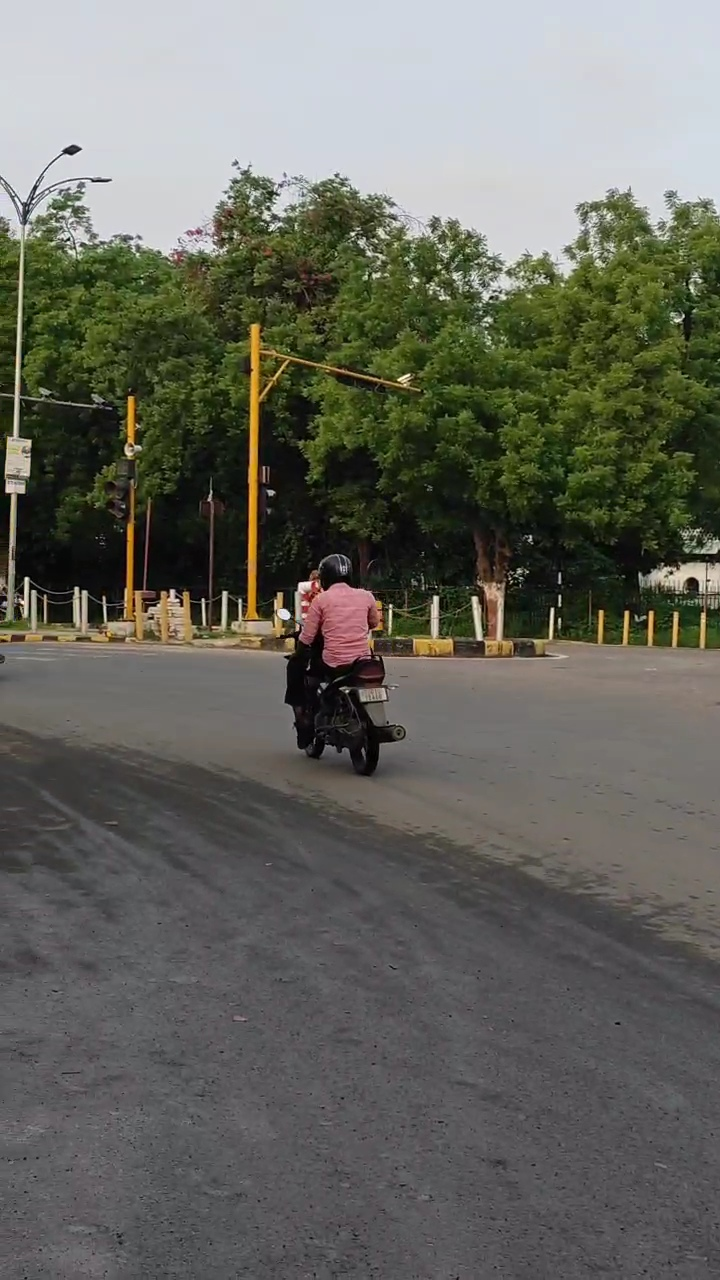BikeWithRider: (273, 545, 412, 779)
Helmet: (314, 547, 356, 593)
